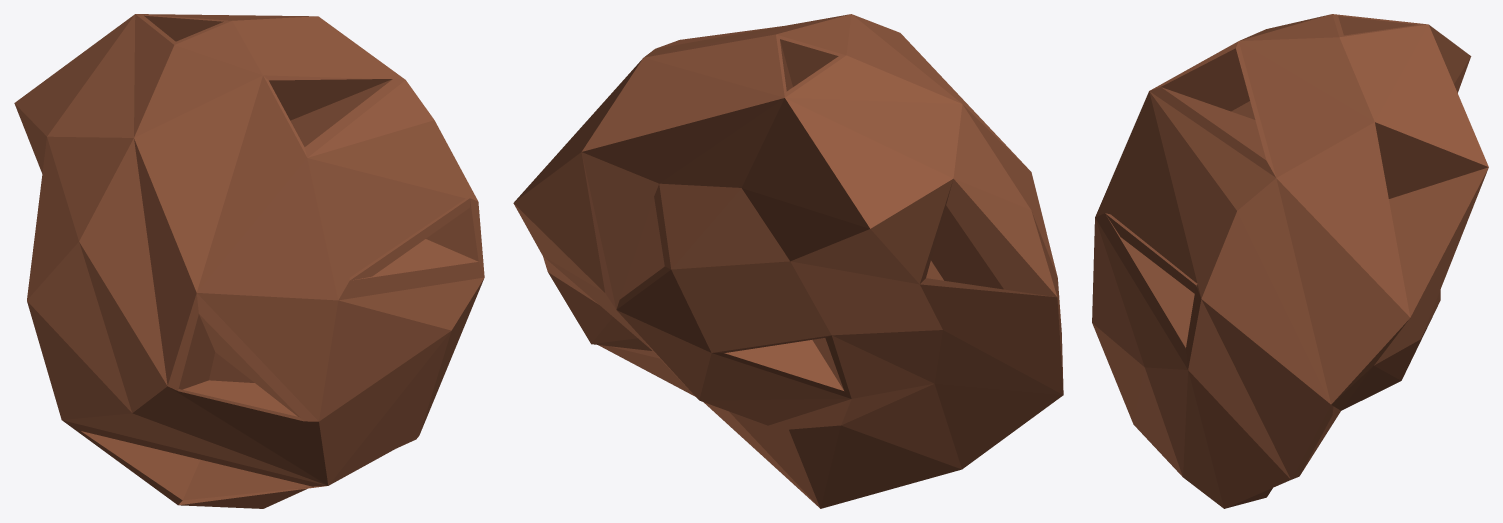
Rendered from Asteroid.002.glb.
3 renders of one model, left to right at view 1: azimuth 30°, elevation 25°; view 2: azimuth 150°, elevation 25°; view 3: azimuth 270°, elevation 25°, orthographic. The views are drawn at different scales.
Visible parts, largest first — view 1: Asteroid.002; view 2: Asteroid.002; view 3: Asteroid.002.
Boxes of the visible parts, bbox=[...] form: Asteroid.002: bbox=[14, 14, 484, 508]; Asteroid.002: bbox=[513, 14, 1063, 508]; Asteroid.002: bbox=[1092, 14, 1488, 508].
Size of the model in its own units: 10.25 by 10.03 by 7.8.
1 material, 1 textured.
